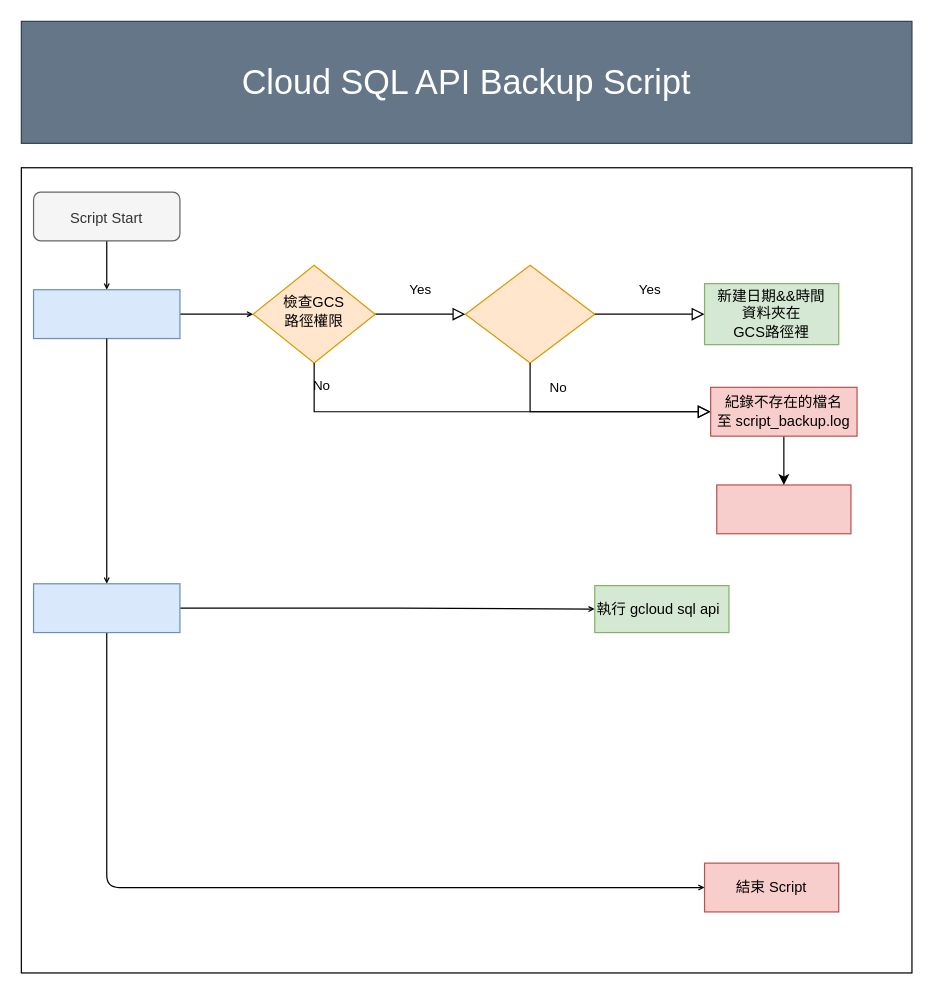
Image size: 933x994. Some labels were removed from this diagram. The shapes that lost their labels are listed below. From the top down, each one's centre as x and y in pixels, then its label:
(106,314): check_gcs()
(529,313): 檢查 日期&&時間 資料夾是否 不存在
(783,509): 退出 Script
(106,608): backup_cloud_sql()
